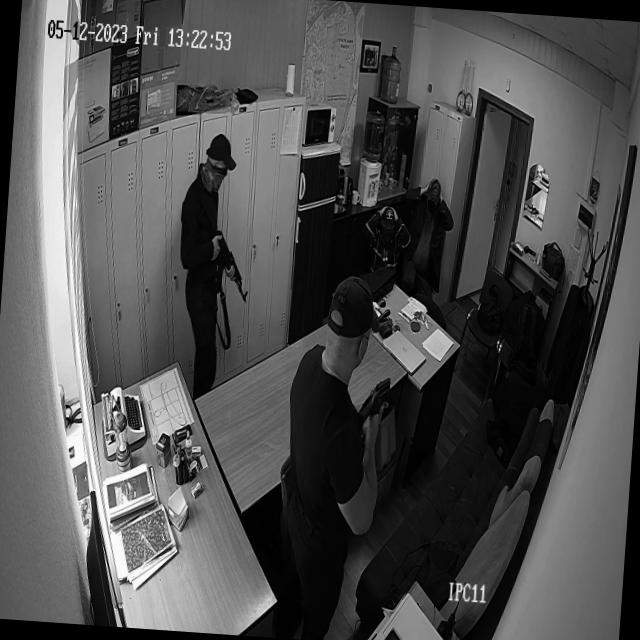gun: (205, 212, 262, 314), (346, 366, 399, 432)
person: (271, 261, 406, 640), (368, 209, 406, 263), (418, 182, 452, 222)
person with a gun: (172, 127, 264, 396)
